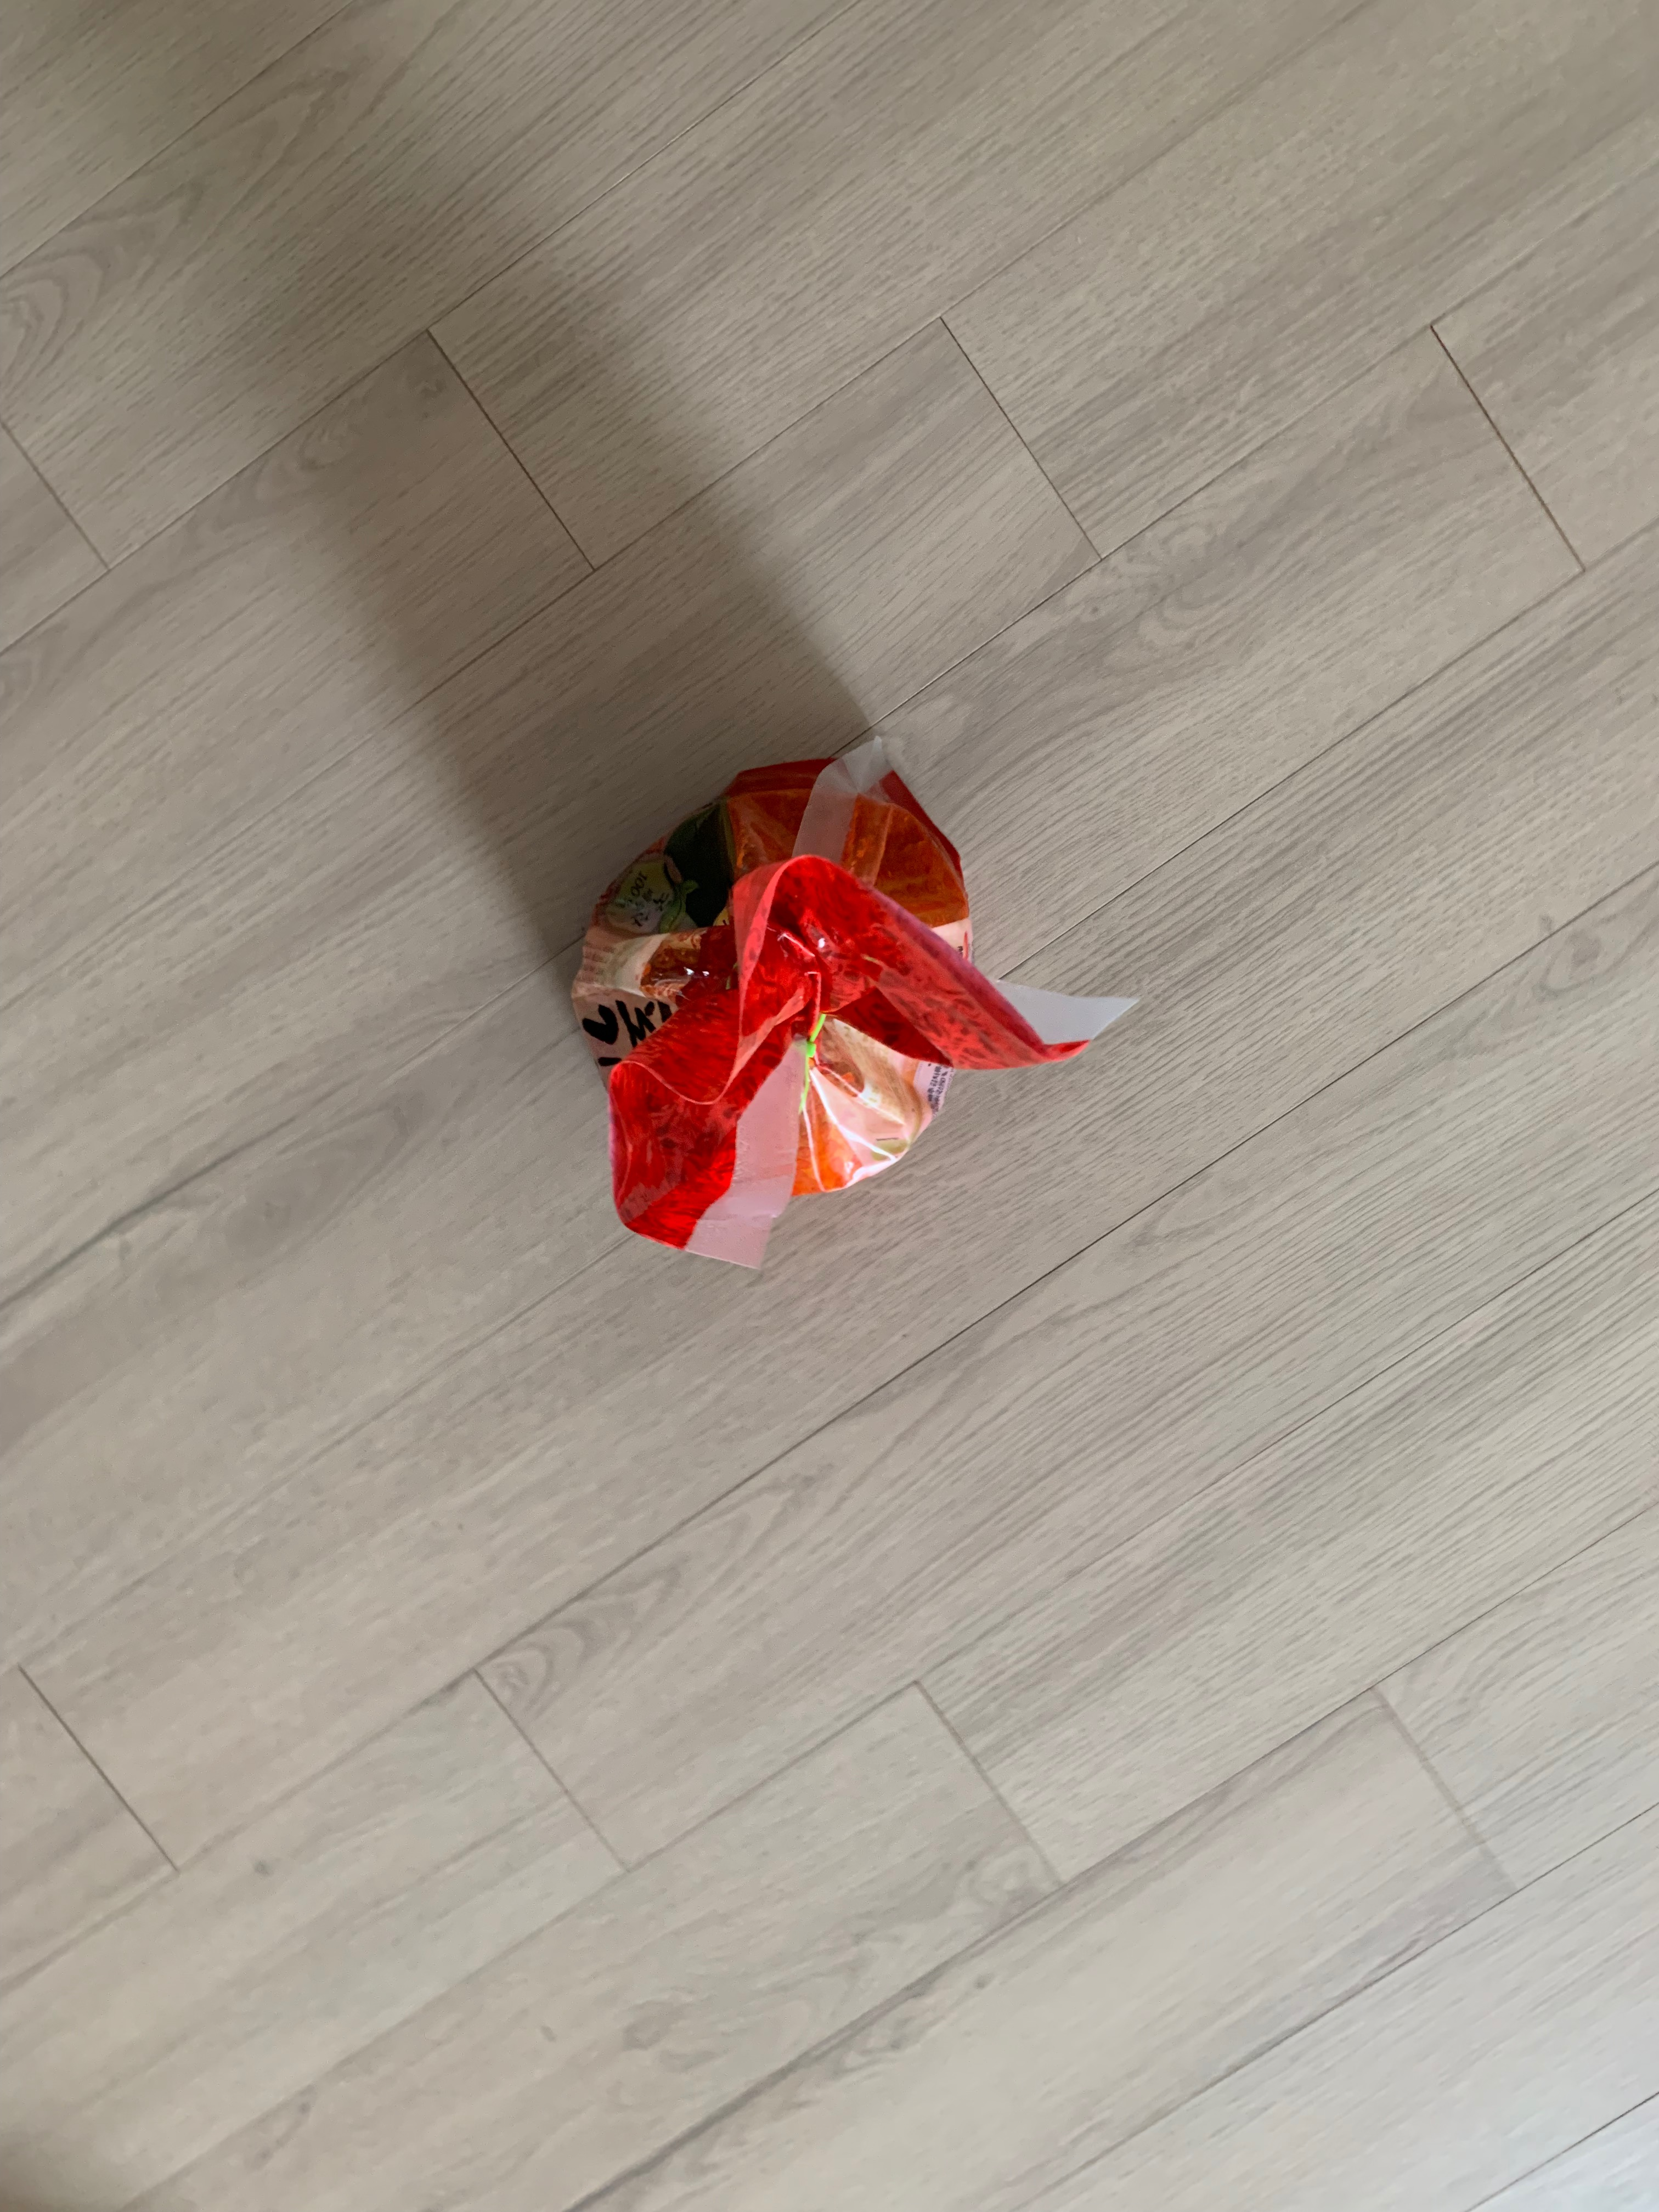kimchi: (566, 754, 1026, 1251)
